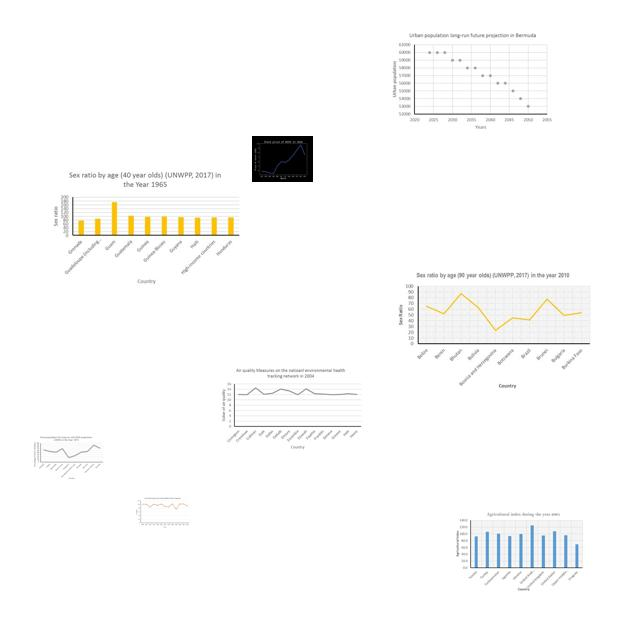Graph: (395, 269, 594, 389), (47, 168, 241, 288), (379, 30, 554, 134), (218, 365, 365, 452), (452, 511, 585, 591), (32, 435, 104, 480), (252, 136, 313, 182), (135, 496, 190, 529)
